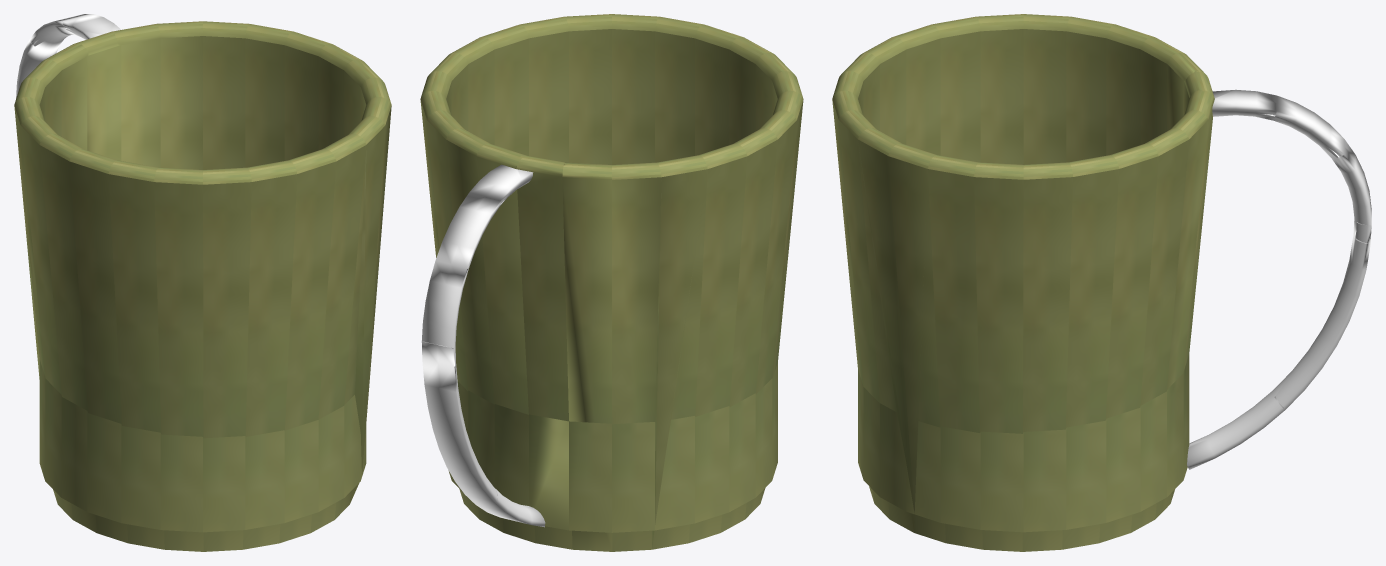
The picture shows the model from 3 angles, left to right: view 1: azimuth 30°, elevation 25°; view 2: azimuth 150°, elevation 25°; view 3: azimuth 270°, elevation 25°; orthographic projection.
Visible parts, largest first — view 1: mesh1_mesh1-geometry_2, mesh2_mesh2-geometry; view 2: mesh1_mesh1-geometry_2, mesh2_mesh2-geometry; view 3: mesh1_mesh1-geometry_2, mesh2_mesh2-geometry.
Part boxes in pixels (x1,y1,x2,y2): mesh1_mesh1-geometry_2: [14, 21, 391, 551]; mesh2_mesh2-geometry: [16, 14, 121, 98]; mesh1_mesh1-geometry_2: [420, 14, 803, 551]; mesh2_mesh2-geometry: [421, 164, 545, 527]; mesh1_mesh1-geometry_2: [832, 14, 1214, 551]; mesh2_mesh2-geometry: [1187, 89, 1371, 469].
Bounding box in the file's own units: 0.4825 × 0.5514 × 0.6801.
Materials: 4 (1 with a texture image).
